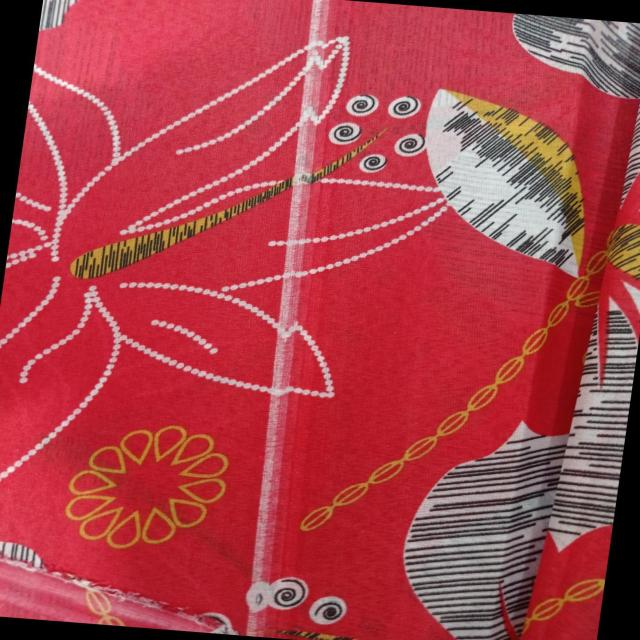selvet: (265, 0, 342, 332), (229, 332, 306, 638)
